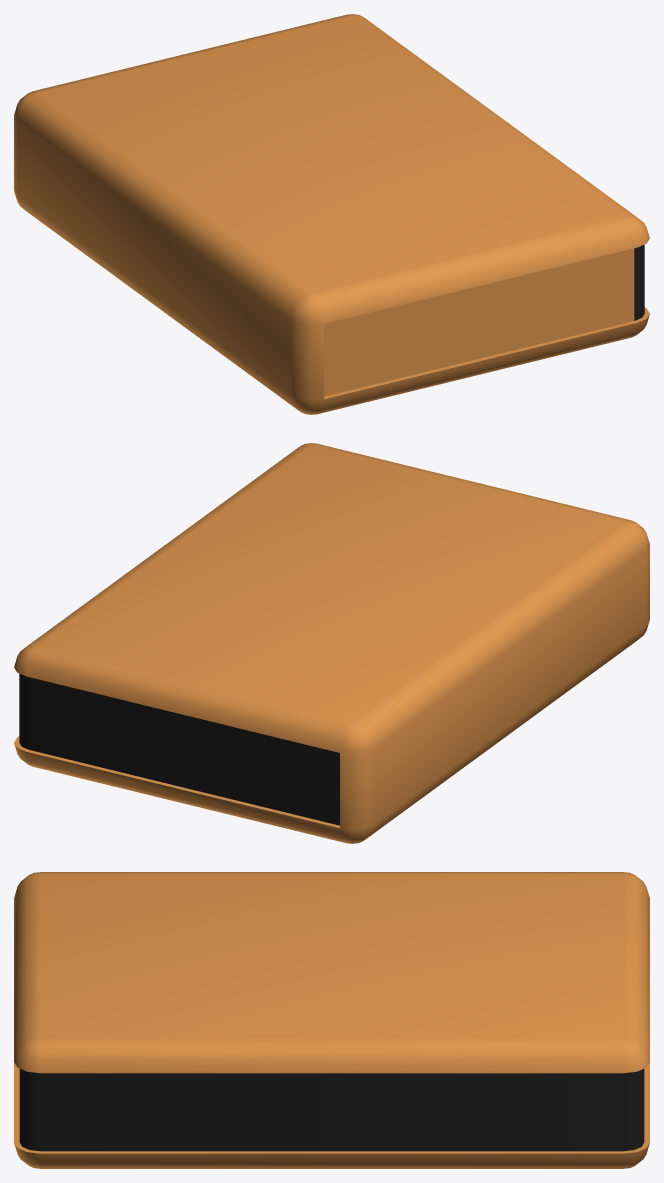
File: BookModel.FBX
3 renders of one model, top to bottom at view 1: azimuth 30°, elevation 25°; view 2: azimuth 150°, elevation 25°; view 3: azimuth 270°, elevation 25°, orthographic. The views are drawn at different scales.
Visible parts, largest first — view 1: ChamferBox001; view 2: ChamferBox001; view 3: ChamferBox001.
Part boxes in pixels (x1,y1,x2,y2): ChamferBox001: [14, 14, 649, 414]; ChamferBox001: [14, 443, 649, 843]; ChamferBox001: [14, 872, 649, 1168].
Size of the model in its own units: 19.51 by 6.28 by 28.2.
